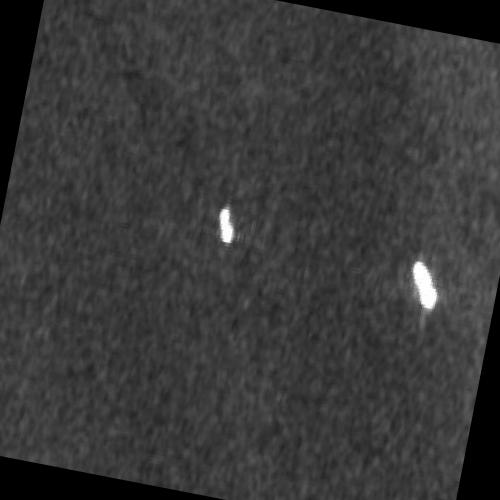ship: (413, 261, 438, 310), (218, 205, 235, 245)
